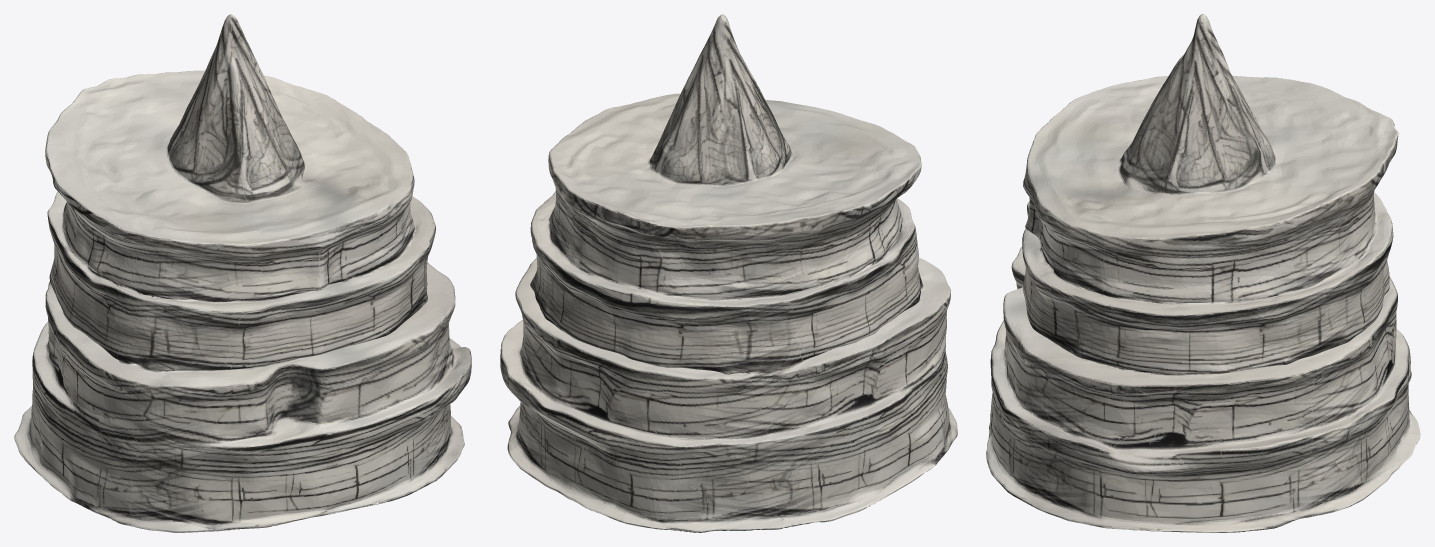
Rendered from altar_tally.glb.
The picture shows the model from 3 angles, left to right: view 1: azimuth 30°, elevation 25°; view 2: azimuth 150°, elevation 25°; view 3: azimuth 270°, elevation 25°; orthographic projection.
Parts seen in each view (by area): view 1: altar_tally; view 2: altar_tally; view 3: altar_tally.
Boxes of the visible parts, x1,y1,x2,y2 form: altar_tally: (14,14,471,532); altar_tally: (500,14,957,532); altar_tally: (986,14,1420,532).
Bounding box in the file's own units: 1.89 × 2 × 1.84.
Materials: 1 (1 with a texture image).
